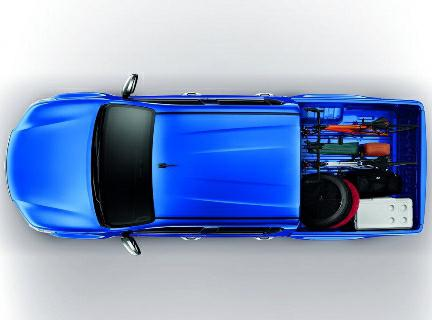丰田-Hilux: (2, 74, 430, 260)
